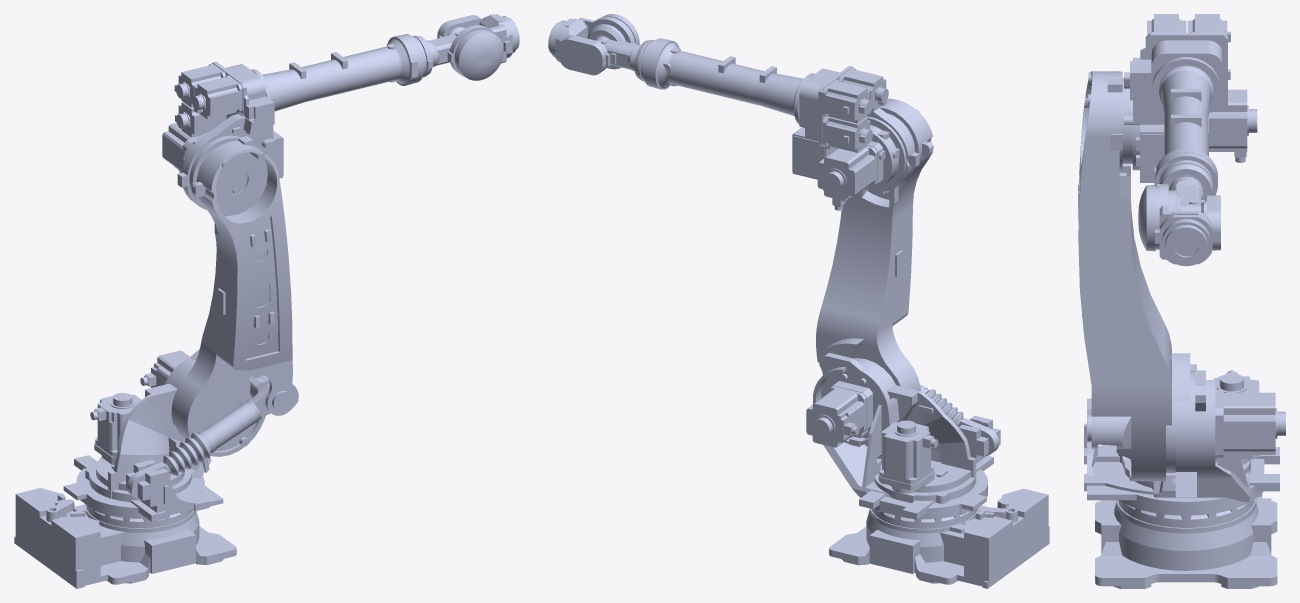
The picture shows the model from 3 angles, left to right: view 1: azimuth 30°, elevation 25°; view 2: azimuth 150°, elevation 25°; view 3: azimuth 270°, elevation 25°; orthographic projection. The views are drawn at different scales.
Visible parts, largest first — view 1: NONE (×2), ºÒ·¯¿Â ÇÇÃ³1 (×12), ºÒ·¯¿Â ÇÇÃ³2 (×3), N; view 2: ºÒ·¯¿Â ÇÇÃ³1 (×9), NONE (×2), N (×2), ºÒ·¯¿Â ÇÇÃ³2 (×2); view 3: ºÒ·¯¿Â ÇÇÃ³1 (×15), NONE (×2), N (×2), ºÒ·¯¿Â ÇÇÃ³2.
Boxes of the visible parts, box(x1,y1,x2,y2) form: NONE (×2): box(63, 136, 298, 521); ºÒ·¯¿Â ÇÇÃ³1 (×12): box(14, 14, 510, 588); ºÒ·¯¿Â ÇÇÃ³2 (×3): box(174, 69, 220, 137); N: box(208, 77, 239, 116); ºÒ·¯¿Â ÇÇÃ³1 (×9): box(559, 16, 1049, 588); NONE (×2): box(813, 98, 993, 519); N (×2): box(558, 38, 856, 120); ºÒ·¯¿Â ÇÇÃ³2 (×2): box(843, 86, 872, 152); ºÒ·¯¿Â ÇÇÃ³1 (×15): box(1095, 33, 1285, 588); NONE (×2): box(1078, 71, 1279, 515); N (×2): box(1147, 20, 1227, 35); ºÒ·¯¿Â ÇÇÃ³2: box(1187, 14, 1230, 42).
Size of the model in its own units: 88.07 by 81.61 by 26.91.
